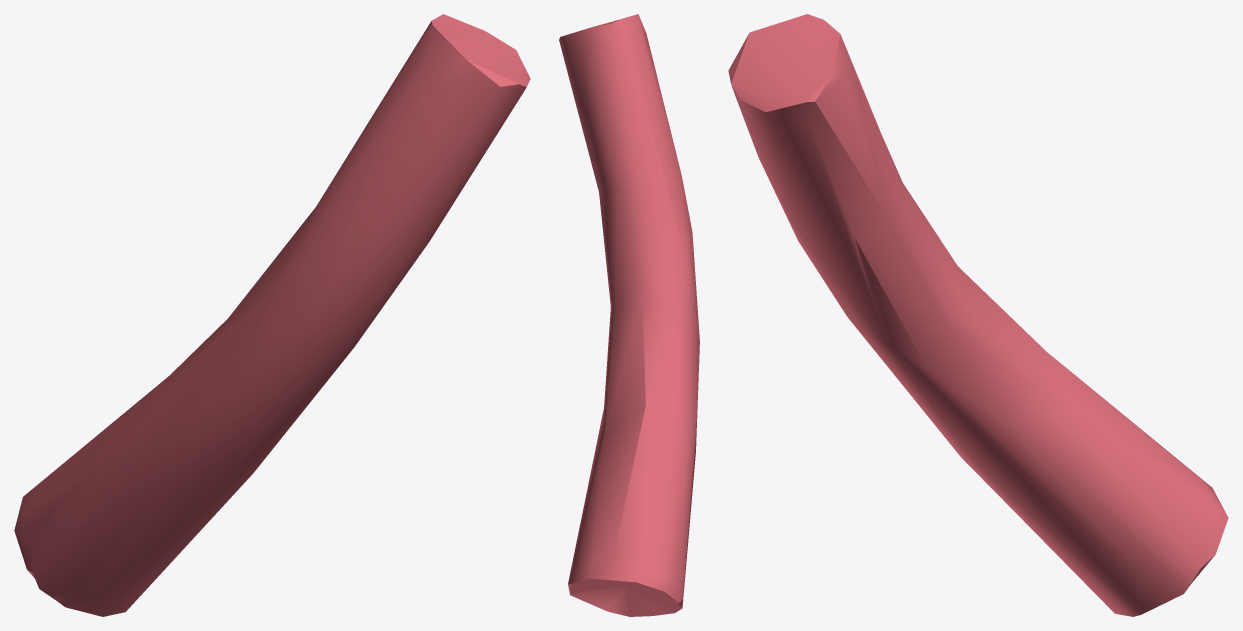
The model's file is fma68665_fj3011.glb.
3 renders of one model, left to right at view 1: azimuth 30°, elevation 25°; view 2: azimuth 150°, elevation 25°; view 3: azimuth 270°, elevation 25°, orthographic. The views are drawn at different scales.
Visible parts, largest first — view 1: FMA68665_FJ3011; view 2: FMA68665_FJ3011; view 3: FMA68665_FJ3011.
Boxes of the visible parts, x1,y1,x2,y2 form: FMA68665_FJ3011: [14, 14, 530, 616]; FMA68665_FJ3011: [559, 14, 699, 616]; FMA68665_FJ3011: [728, 14, 1228, 616].
Size of the model in its own units: 0.00428 by 0.00827 by 0.00551.
